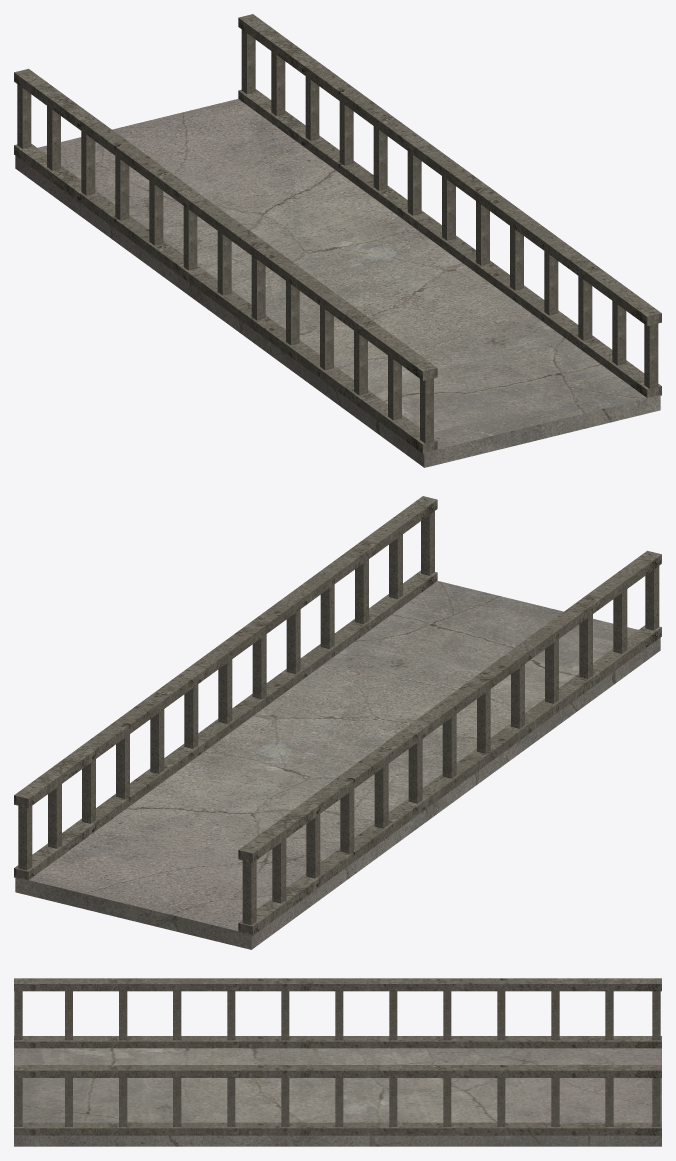
Rendered from country bridge.FBX.
3 renders of one model, top to bottom at view 1: azimuth 30°, elevation 25°; view 2: azimuth 150°, elevation 25°; view 3: azimuth 270°, elevation 25°, orthographic. The views are drawn at different scales.
Visible parts, largest first — view 1: Box002; view 2: Box002; view 3: Box002.
Part boxes in pixels (box(x1,y1,x2,y2)): Box002: box(14, 14, 661, 467); Box002: box(14, 496, 661, 949); Box002: box(14, 978, 661, 1146).
Size of the model in its own units: 810 by 313 by 2400.
